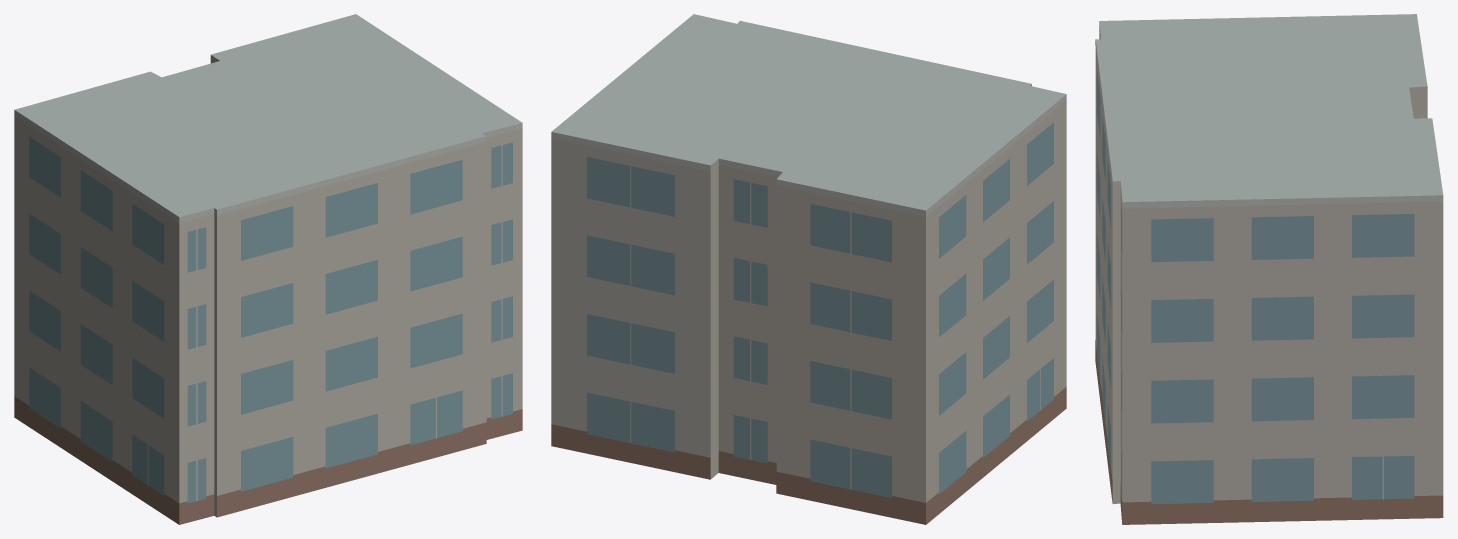
File: survey-upis-32706407.glb
The picture shows the model from 3 angles, left to right: view 1: azimuth 30°, elevation 25°; view 2: azimuth 150°, elevation 25°; view 3: azimuth 270°, elevation 25°; orthographic projection. The views are drawn at different scales.
Parts seen in each view (by area): view 1: survey-upis-32706407.tmp; view 2: survey-upis-32706407.tmp; view 3: survey-upis-32706407.tmp.
Part boxes in pixels (<box>): survey-upis-32706407.tmp: <box>14,14,522,524</box>; survey-upis-32706407.tmp: <box>551,14,1066,524</box>; survey-upis-32706407.tmp: <box>1095,14,1443,524</box>.
Size of the model in its own units: 15.64 by 12.5 by 12.22.
